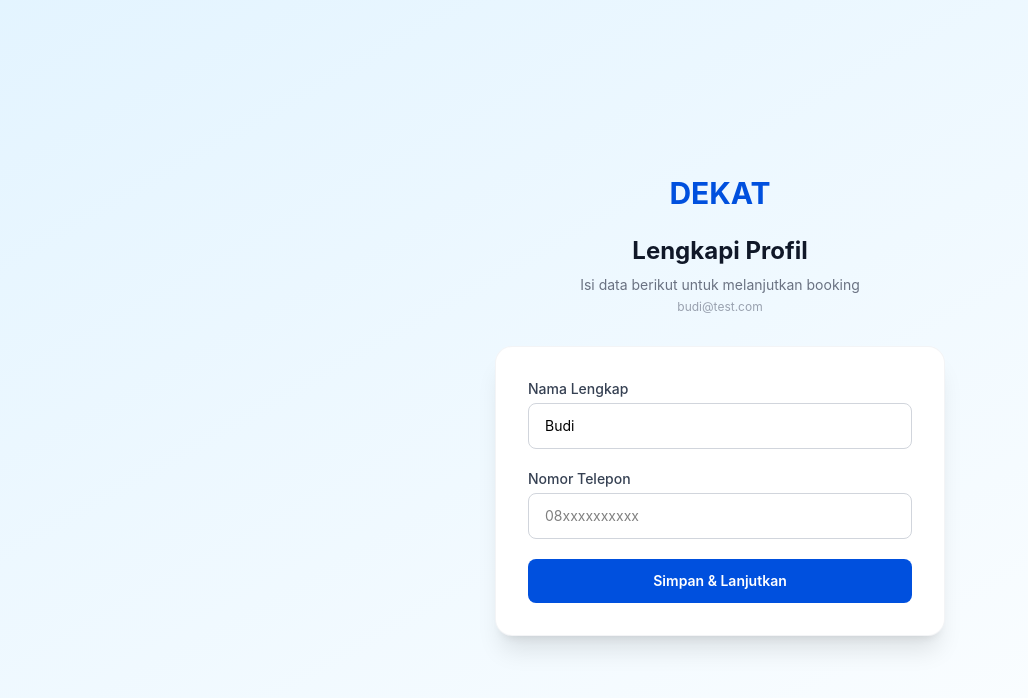
Scenario: ProfileCompletePage › validates name min 2 chars
The width and height of the screenshot is (1028, 698).
Replace the text in the field with placeholder "Masukkan nama Anda" with "A" at x=720, y=426, box [528,403,912,449]
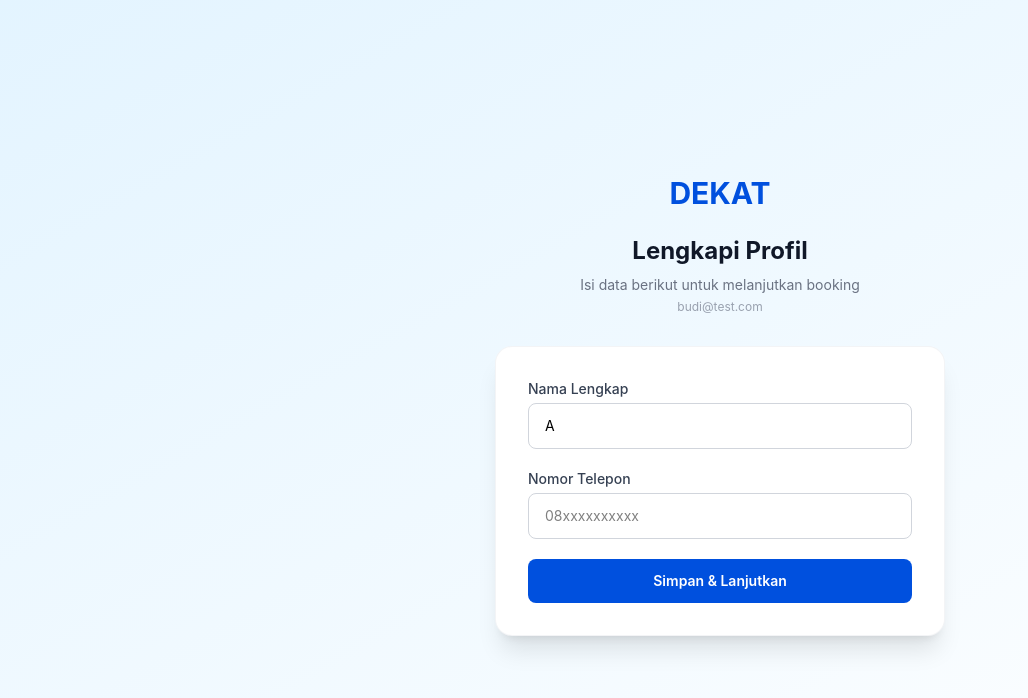
Click the button "Simpan & Lanjutkan" at x=720, y=581, box [528,559,912,603]
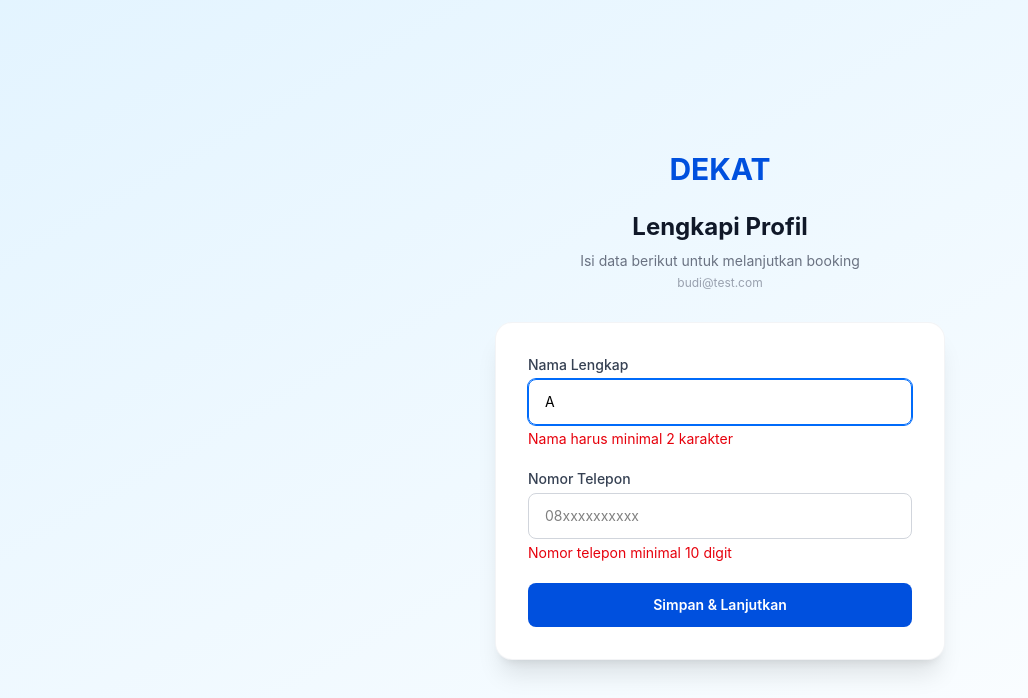
Result: the text "Nama harus minimal 2 karakter" is shown at [528,430,733,447]
